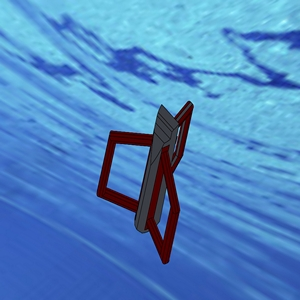submarine: (62, 76, 232, 270)
